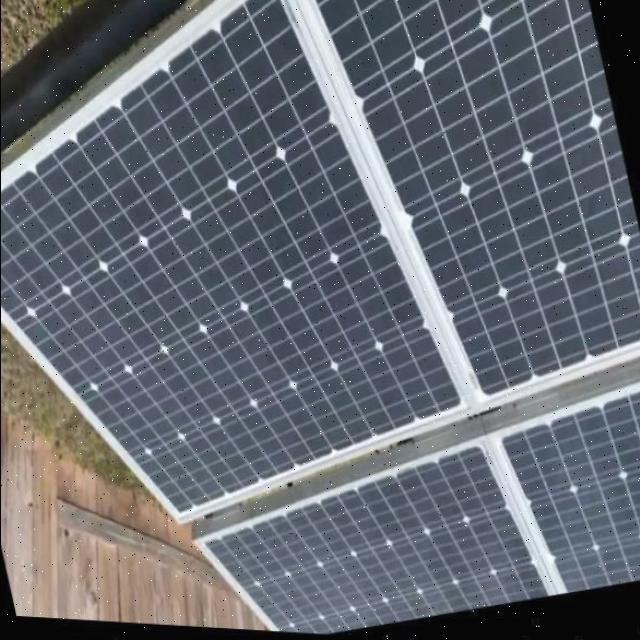Normal Solar Panel: (0, 0, 640, 590), (170, 331, 640, 640)
